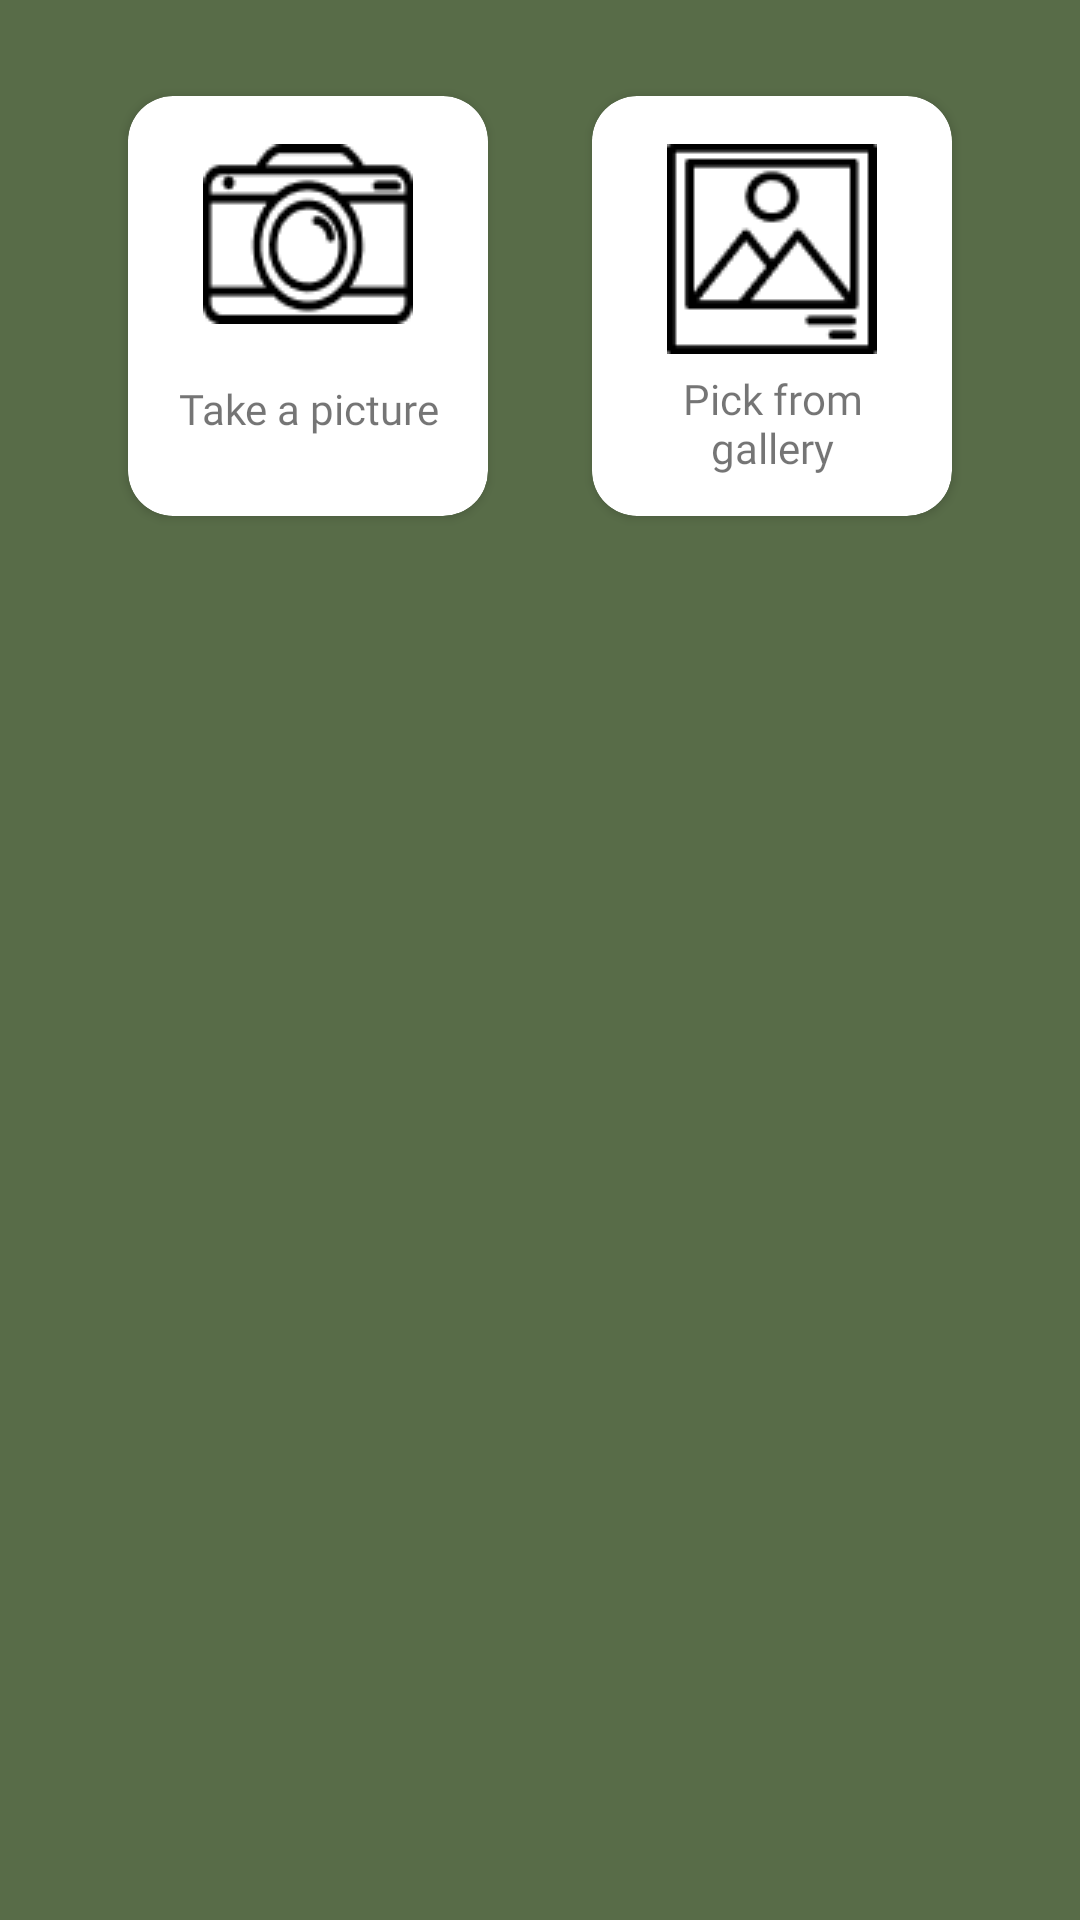

Screen size 1080w x 1920h. Icon name, then its box in pixels as (x1, y1, x2, y2):
camera: (203, 144, 413, 324)
